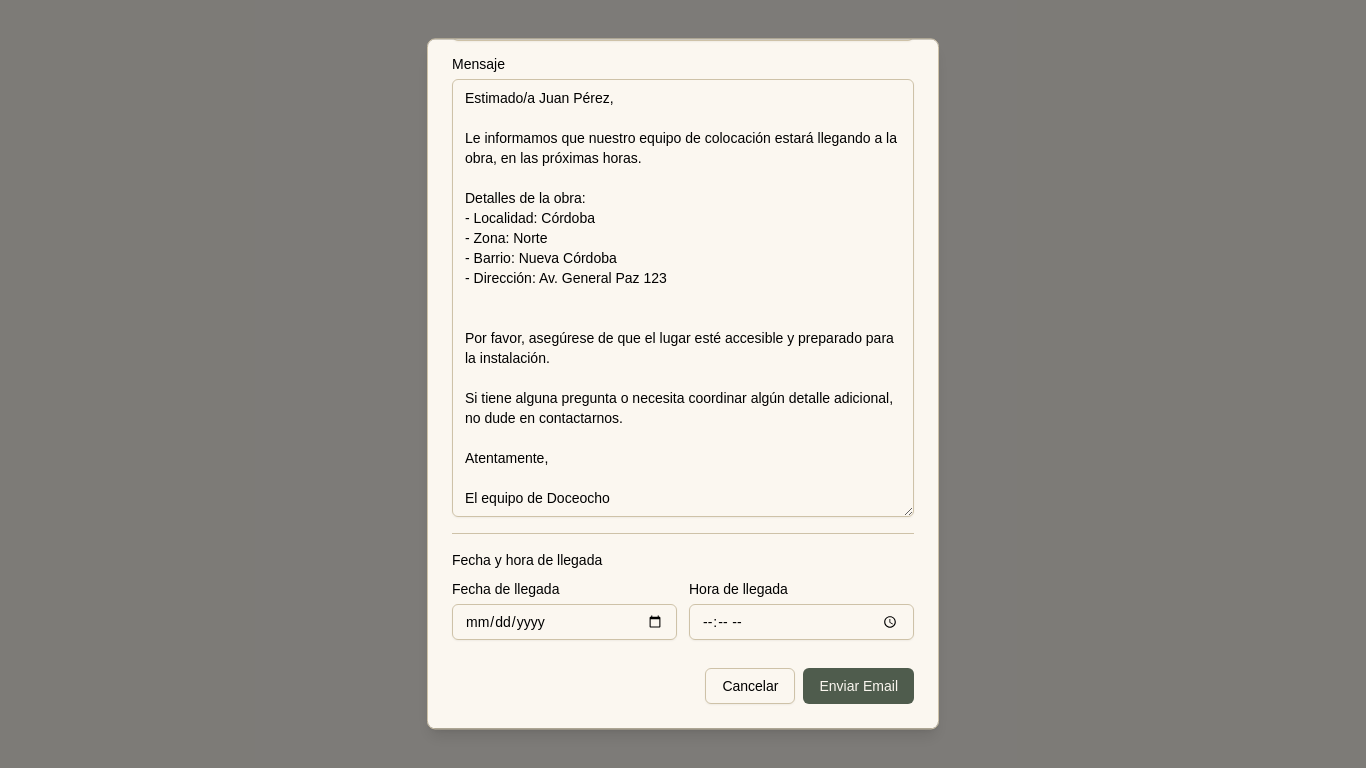
Test case: EmailNotificationModal › shows arrival notice when time changes
(page scrolled)
Type "14:30" into the time field labelled "Hora de llegada". click: (802, 622)
box: [689,604,914,640]
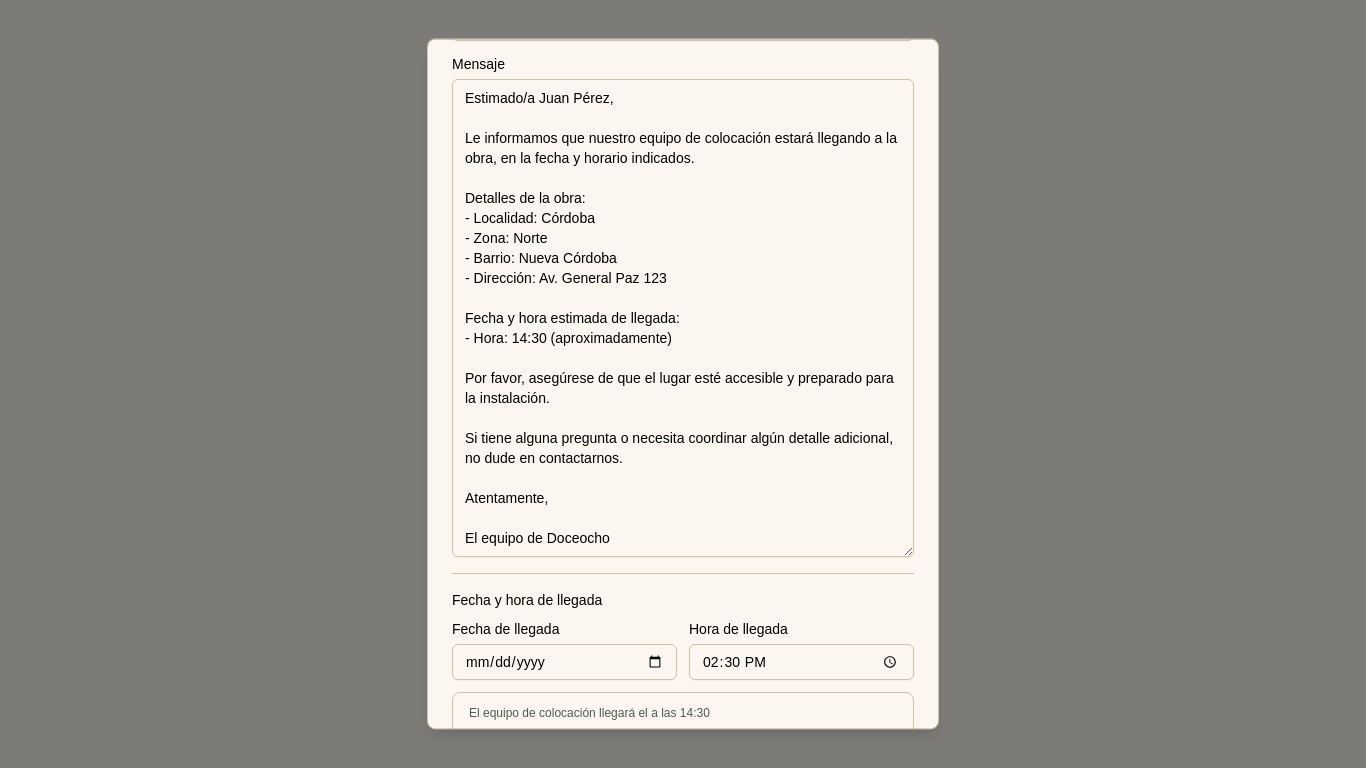
Expected: the text "El equipo de colocación llegará el a las 14:30" is shown, [469,706,710,720]
